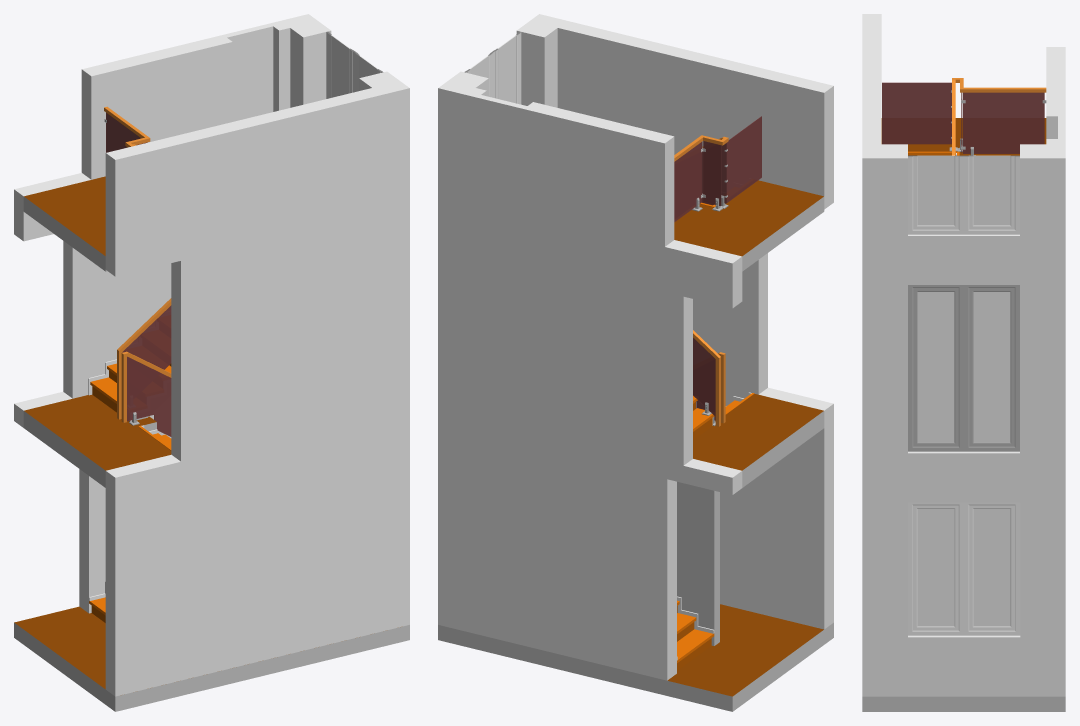
Rendered from 3D Сборка 1.obj.
3 views of the same model, side by side, from view 1: azimuth 30°, elevation 25°; view 2: azimuth 150°, elevation 25°; view 3: azimuth 270°, elevation 25° (orthographic).
Size of the model in its own units: 4.42 by 7.92 by 2.63.
